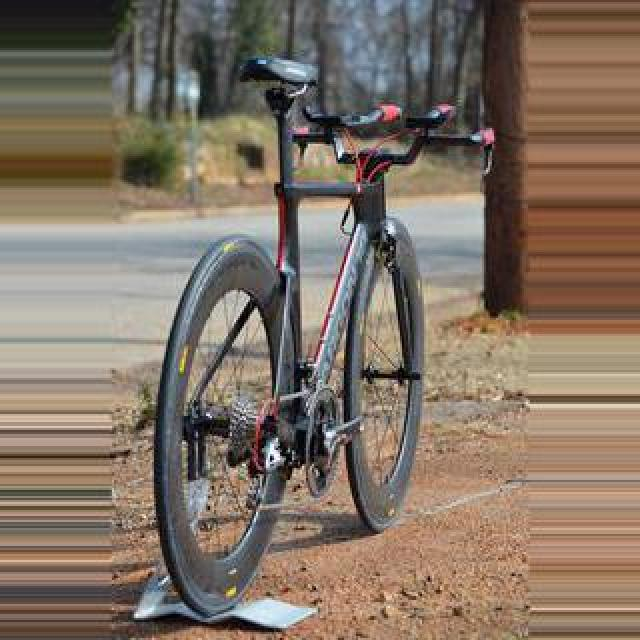Person: (156, 56, 440, 564)
